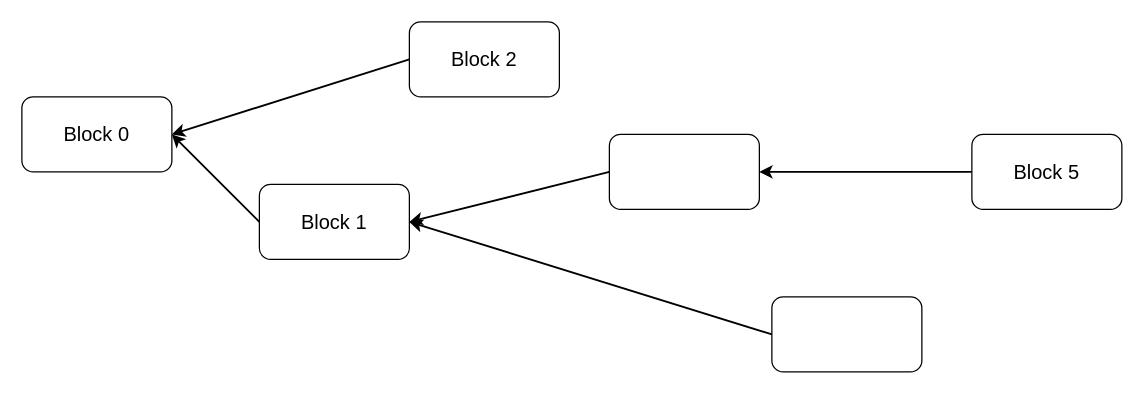
This 1144x394 diagram has some shape labels left out. Each missing label, with the box of its shape:
Block 3: (608, 133, 759, 209)
Block 4: (771, 296, 922, 372)
